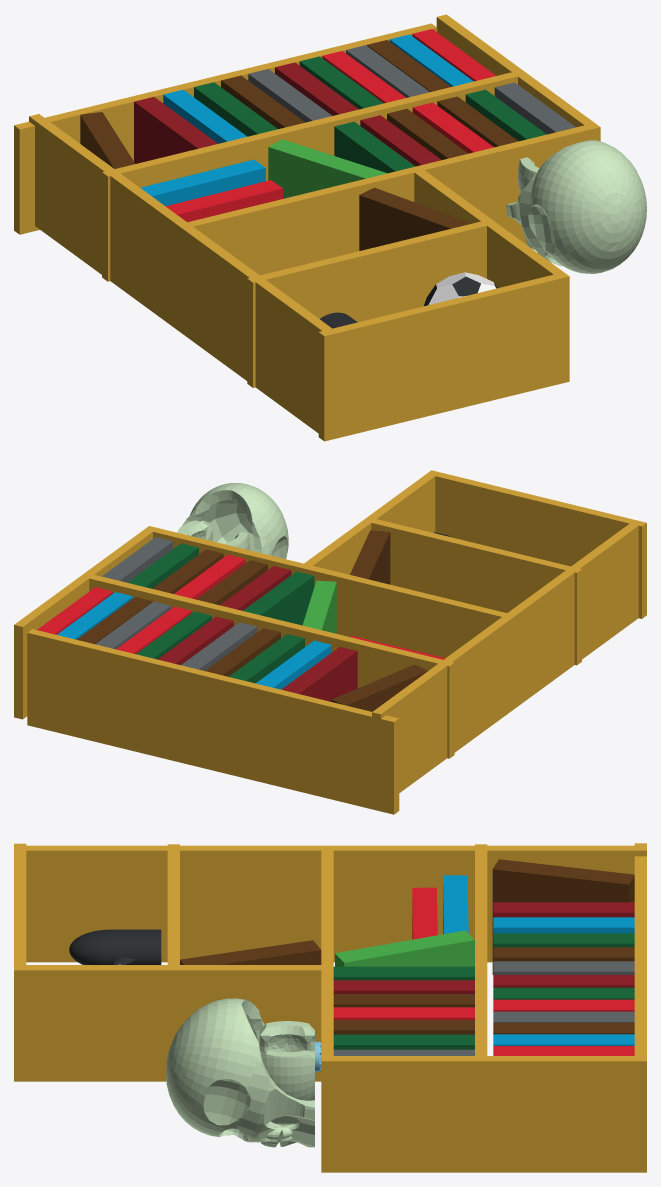
File: tinker.obj
3 views of the same model, one above another, from view 1: azimuth 30°, elevation 25°; view 2: azimuth 150°, elevation 25°; view 3: azimuth 270°, elevation 25° (orthographic). The views are drawn at different scales.
Visible parts, largest first — view 1: group_0_14789940, group_0_13165757, group_0_6306067, group_0_1206582, group_0_15277357, group_0_9771553, group_0_40919, group_0_6383466, group_0_4634441, group_0_2829873, group_0_16448250; view 2: group_0_14789940, group_0_6306067, group_0_1206582, group_0_13165757, group_0_9771553, group_0_6383466, group_0_15277357, group_0_40919, group_0_4634441; view 3: group_0_14789940, group_0_13165757, group_0_6306067, group_0_1206582, group_0_15277357, group_0_9771553, group_0_40919, group_0_6383466, group_0_4634441, group_0_2829873.
Part boxes in pixels (bbox=[...]): group_0_14789940: bbox=[14, 14, 600, 441]; group_0_13165757: bbox=[506, 140, 646, 273]; group_0_6306067: bbox=[80, 40, 518, 250]; group_0_1206582: bbox=[194, 56, 546, 173]; group_0_15277357: bbox=[166, 29, 495, 222]; group_0_9771553: bbox=[134, 62, 441, 166]; group_0_40919: bbox=[140, 34, 473, 206]; group_0_6383466: bbox=[248, 45, 575, 134]; group_0_4634441: bbox=[268, 139, 387, 198]; group_0_2829873: bbox=[320, 276, 497, 328]; group_0_16448250: bbox=[428, 272, 496, 305]; group_0_14789940: bbox=[14, 470, 646, 814]; group_0_6306067: bbox=[77, 530, 428, 711]; group_0_1206582: bbox=[127, 543, 314, 683]; group_0_13165757: bbox=[177, 483, 288, 558]; group_0_9771553: bbox=[157, 566, 357, 701]; group_0_6383466: bbox=[95, 537, 257, 670]; group_0_15277357: bbox=[37, 554, 445, 659]; group_0_40919: bbox=[57, 592, 331, 689]; group_0_4634441: bbox=[302, 580, 336, 633]; group_0_14789940: bbox=[14, 843, 646, 1172]; group_0_13165757: bbox=[166, 998, 314, 1147]; group_0_6306067: bbox=[180, 859, 634, 1034]; group_0_1206582: bbox=[333, 933, 634, 1049]; group_0_15277357: bbox=[333, 887, 634, 1055]; group_0_9771553: bbox=[333, 902, 634, 993]; group_0_40919: bbox=[443, 875, 634, 1045]; group_0_6383466: bbox=[333, 961, 634, 1055]; group_0_4634441: bbox=[335, 930, 474, 966]; group_0_2829873: bbox=[69, 929, 161, 964].
Bounding box in the file's own units: 86 × 29.16 × 103.
